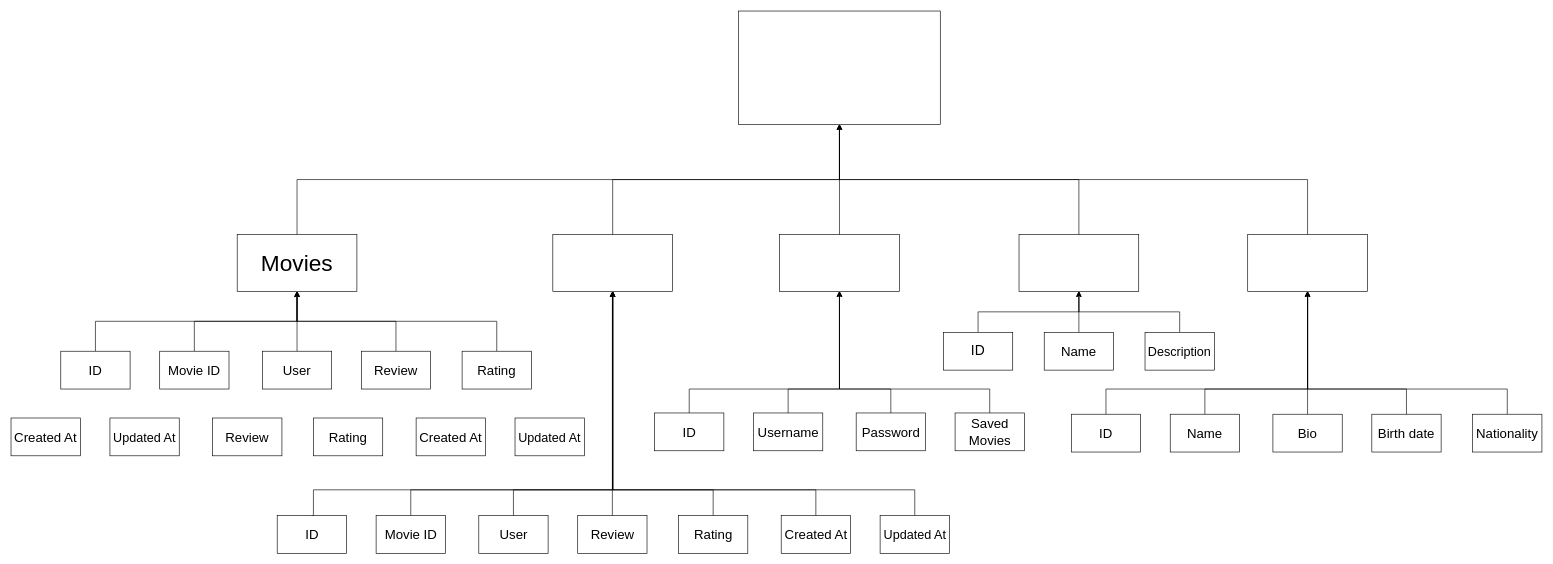
Some shapes in this 1553 by 564 pixel diagram are drawn without their labels. The shapes that lost their labels are listed below. From the top down, each one's centre as x and y in pixels, then its label:
At point 839,67: "Movie DB".
At point 612,262: "Reviews".
At point 839,262: "Users".
At point 1078,262: "Categories".
At point 1307,262: "Actors".
